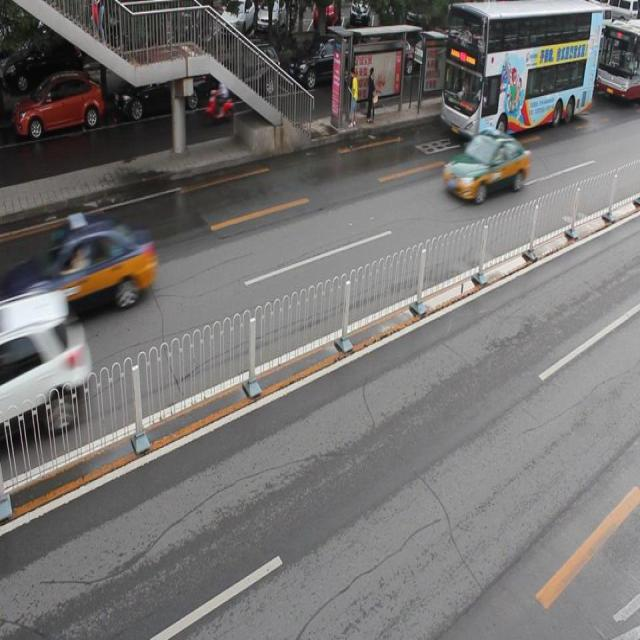car: (21, 216, 156, 314), (0, 301, 89, 439), (444, 126, 530, 202), (14, 73, 105, 142), (117, 57, 205, 120), (288, 36, 359, 90), (220, 44, 279, 102)
van: (440, 2, 600, 144), (596, 22, 640, 100)
